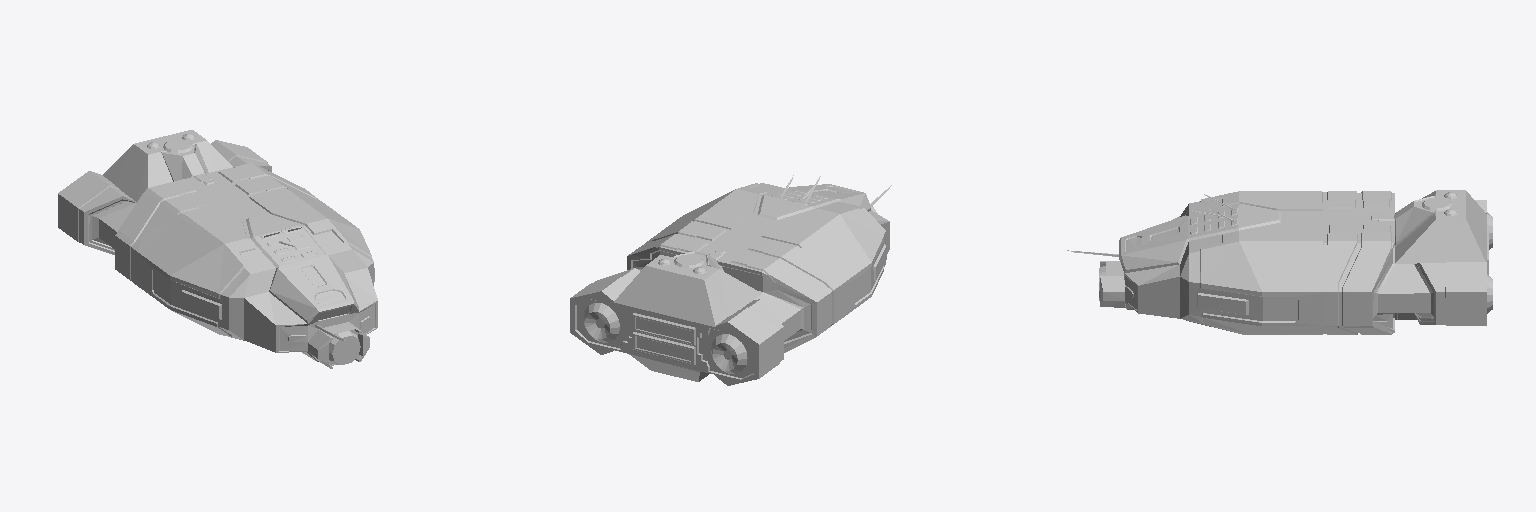
Rendered from bst_fighter.obj.
The picture shows the model from 3 angles: view 1: azimuth 30°, elevation 25°; view 2: azimuth 150°, elevation 25°; view 3: azimuth 270°, elevation 25°; orthographic projection.
Parts seen in each view (by area): view 1: Tur_Fighter; view 2: Tur_Fighter, Tur_Fighter_Engine; view 3: Tur_Fighter.
Boxes of the visible parts, box(x1,y1,x2,y2) form: Tur_Fighter: box(58, 130, 377, 368); Tur_Fighter: box(571, 175, 891, 381); Tur_Fighter_Engine: box(570, 291, 758, 385); Tur_Fighter: box(1067, 190, 1486, 334).
Bounding box in the file's own units: 12.19 × 6.9 × 23.68.